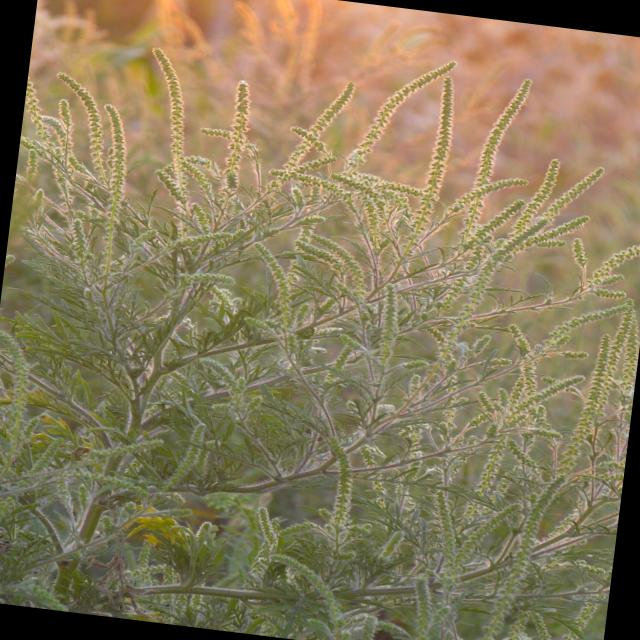ambrosia: (314, 31, 630, 296), (9, 19, 229, 250), (469, 306, 640, 524), (284, 427, 386, 551)
